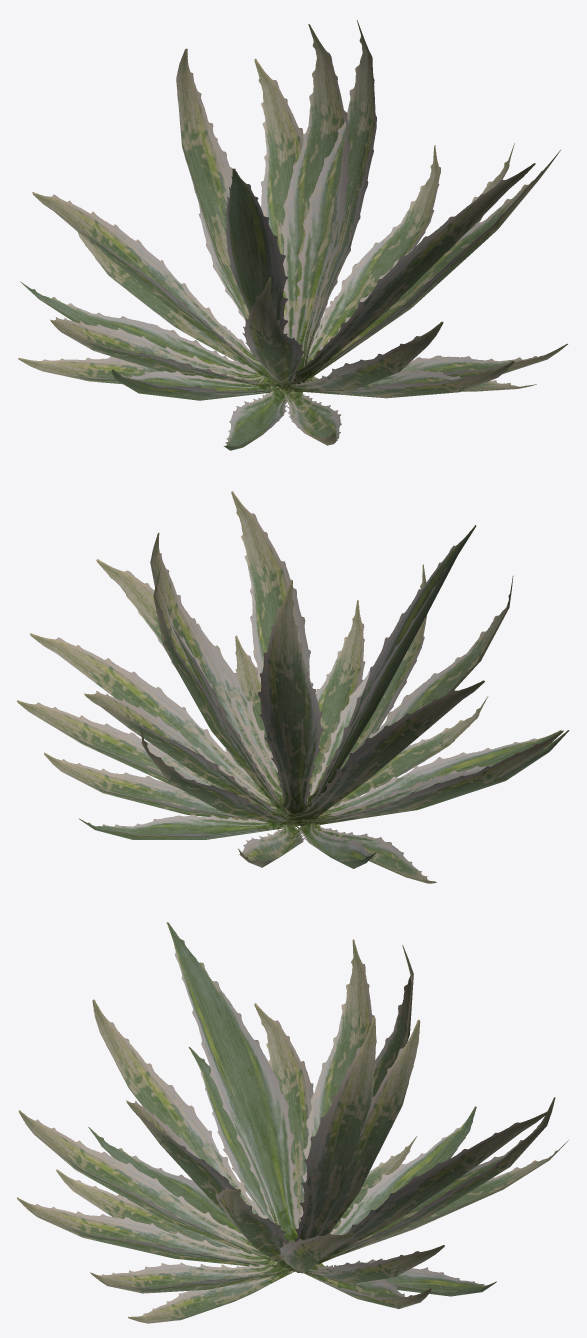
File: shrub3.glb
3 renders of one model, top to bottom at view 1: azimuth 30°, elevation 25°; view 2: azimuth 150°, elevation 25°; view 3: azimuth 270°, elevation 25°, orthographic. The views are drawn at different scales.
Visible parts, largest first — view 1: agave_2_agave_2Mat_0.074; view 2: agave_2_agave_2Mat_0.074; view 3: agave_2_agave_2Mat_0.074.
Boxes of the visible parts, x1,y1,x2,y2 form: agave_2_agave_2Mat_0.074: [18, 20, 567, 450]; agave_2_agave_2Mat_0.074: [17, 491, 569, 883]; agave_2_agave_2Mat_0.074: [17, 922, 568, 1323].
Bounding box in the file's own units: 34.93 × 20.31 × 33.4.
1 material, 1 textured.
